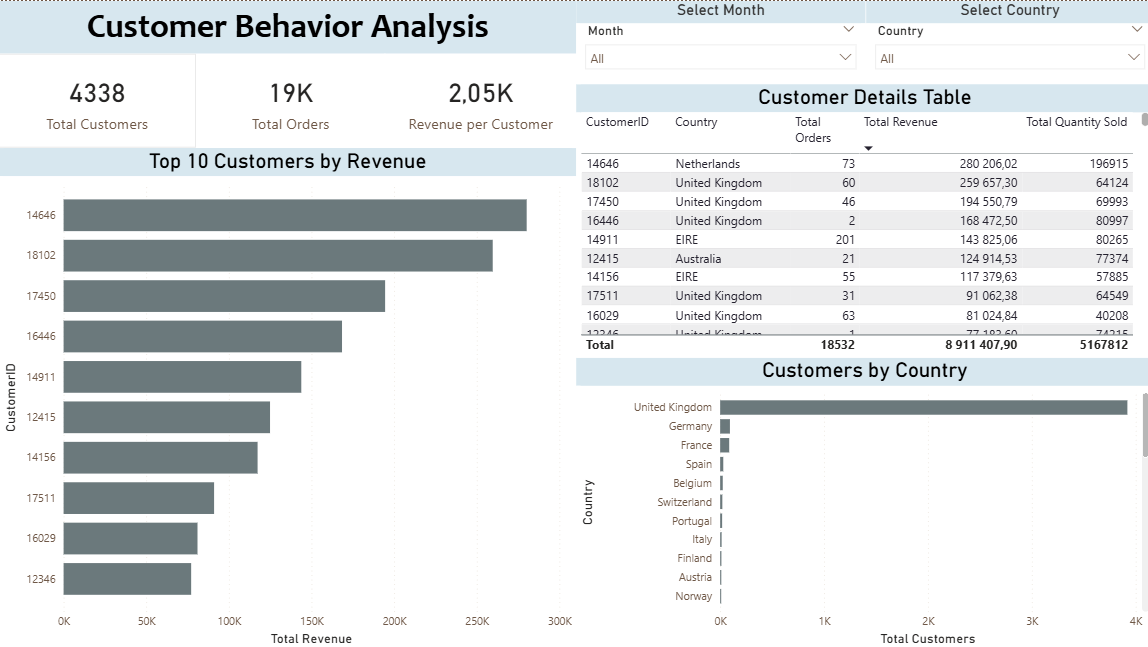

What the dashboard file says about the page in this screenshot:
{"tool":"powerbi","page":{"name":"Customer Analysis","canvas":[1280,720],"ordinal":2},"visuals":[{"type":"textbox","box":[0,0,640.3,58.1],"z":0},{"type":"card","fields":{"Values":["Online Retail.Total Customers"]},"box":[0,58.1,217.7,104.8],"z":1000},{"type":"card","fields":{"Values":["Online Retail.Total Orders"]},"box":[217.7,58.1,209.7,104.8],"z":2000},{"type":"card","fields":{"Values":["Online Retail.Revenue per Customer"]},"box":[427.4,58.1,212.9,104.8],"z":3000},{"type":"clusteredBarChart","title":"Top 10 Customers by Revenue","fields":{"Category":["Online Retail.CustomerID"],"Y":["Online Retail.Total Revenue"]},"box":[0,162.9,640.3,556.5],"z":4000},{"type":"clusteredBarChart","title":"Customers by Country","fields":{"Category":["Online Retail.Country"],"Y":["Online Retail.Total Customers"]},"box":[640.3,395.2,640.3,324.2],"z":5000},{"type":"tableEx","title":"Customer Details Table","fields":{"Values":["Online Retail.CustomerID","Online Retail.Country","Online Retail.Total Orders","Online Retail.Total Revenue","Online Retail.Total Quantity Sold"]},"box":[640.3,91.9,640.3,303.2],"z":6000},{"type":"slicer","title":"Select Month","fields":{"Values":["Online Retail.Month"]},"box":[640.3,0,321,91.9],"z":7000},{"type":"slicer","title":"Select Country ","fields":{"Values":["Online Retail.Country"]},"box":[961.3,0,319.4,91.9],"z":8000}]}

Visuals, with their boxes in screenshot pixels (x1, y1, x2, y2), scaled from the page's 1280x720 canvas onto the 1148x647 screenshot:
textbox: select_region(0, 0, 574, 52)
card - Online Retail.Total Customers: select_region(0, 52, 195, 146)
card - Online Retail.Total Orders: select_region(195, 52, 383, 146)
card - Online Retail.Revenue per Customer: select_region(383, 52, 574, 146)
"Top 10 Customers by Revenue" clusteredBarChart: select_region(0, 146, 574, 646)
"Customers by Country" clusteredBarChart: select_region(574, 355, 1147, 646)
"Customer Details Table" tableEx: select_region(574, 83, 1147, 355)
"Select Month" slicer: select_region(574, 0, 862, 83)
"Select Country " slicer: select_region(862, 0, 1147, 83)
